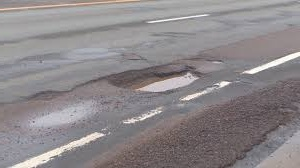pothole: (107, 68, 201, 94), (24, 77, 91, 104), (205, 56, 224, 64)
